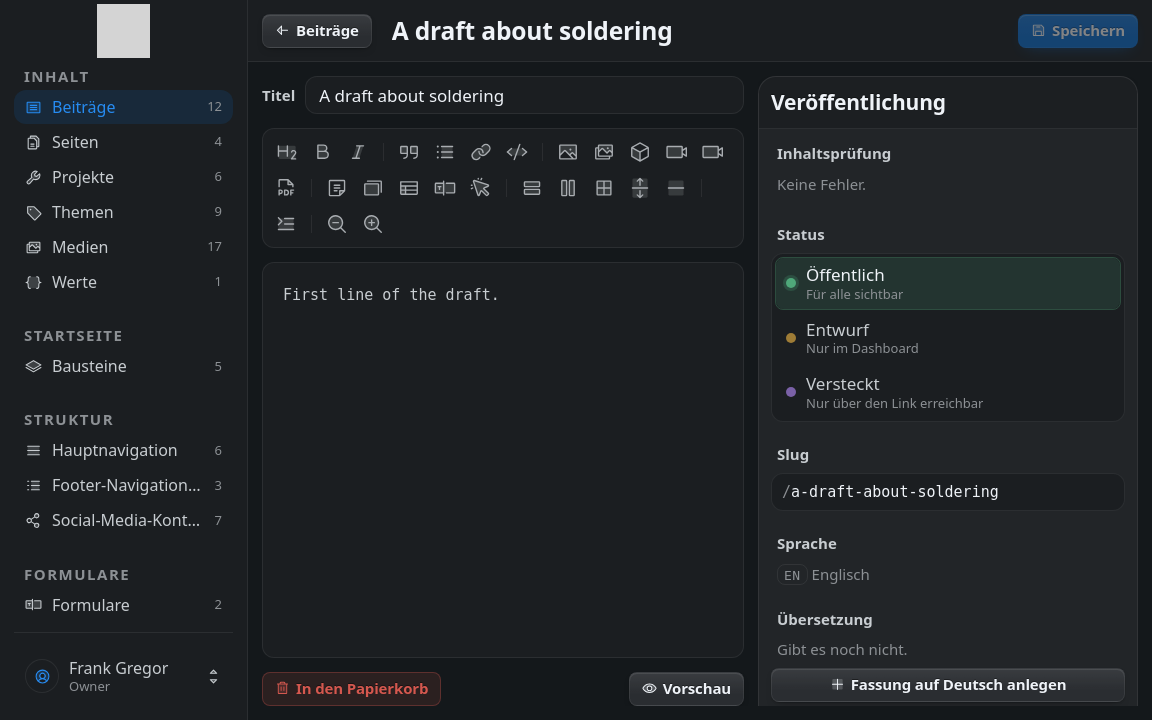
Test: dashboard shell › keeps a failed save in the bar, with its id, until it is closed
Replace the text in the field labelled "Titel" with "Will fail": [525, 95] box [305,76,744,114]
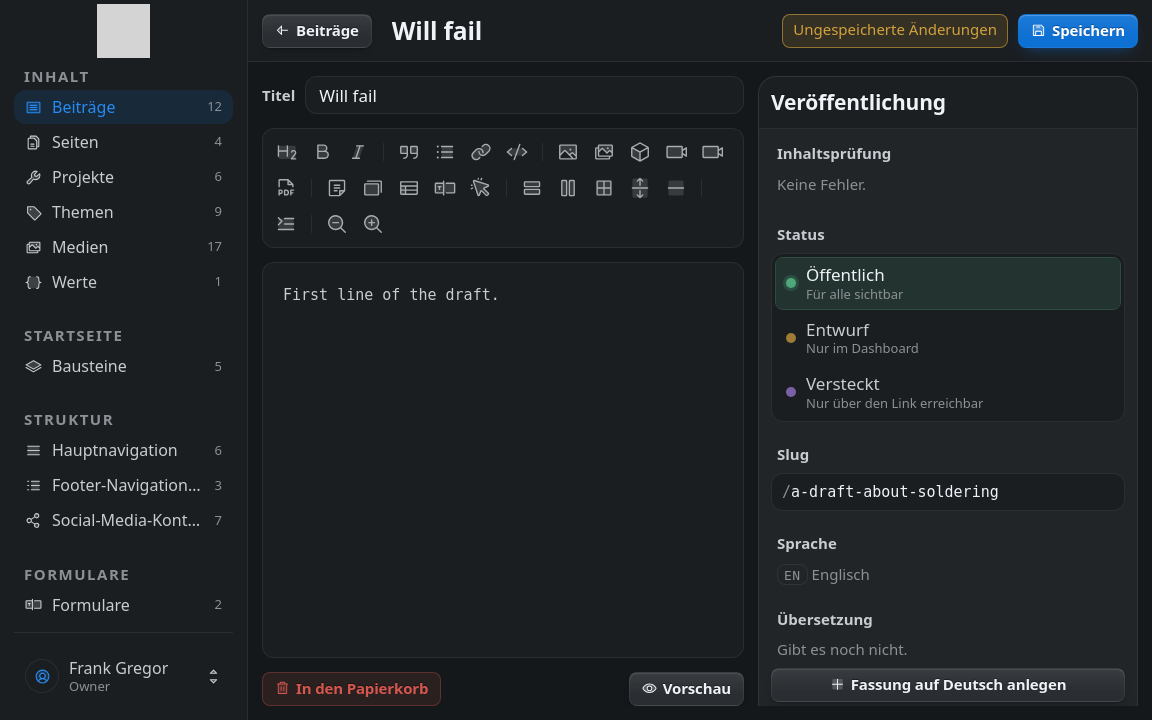
Click the button "Speichern": [1078, 31] box [1018,14,1138,48]
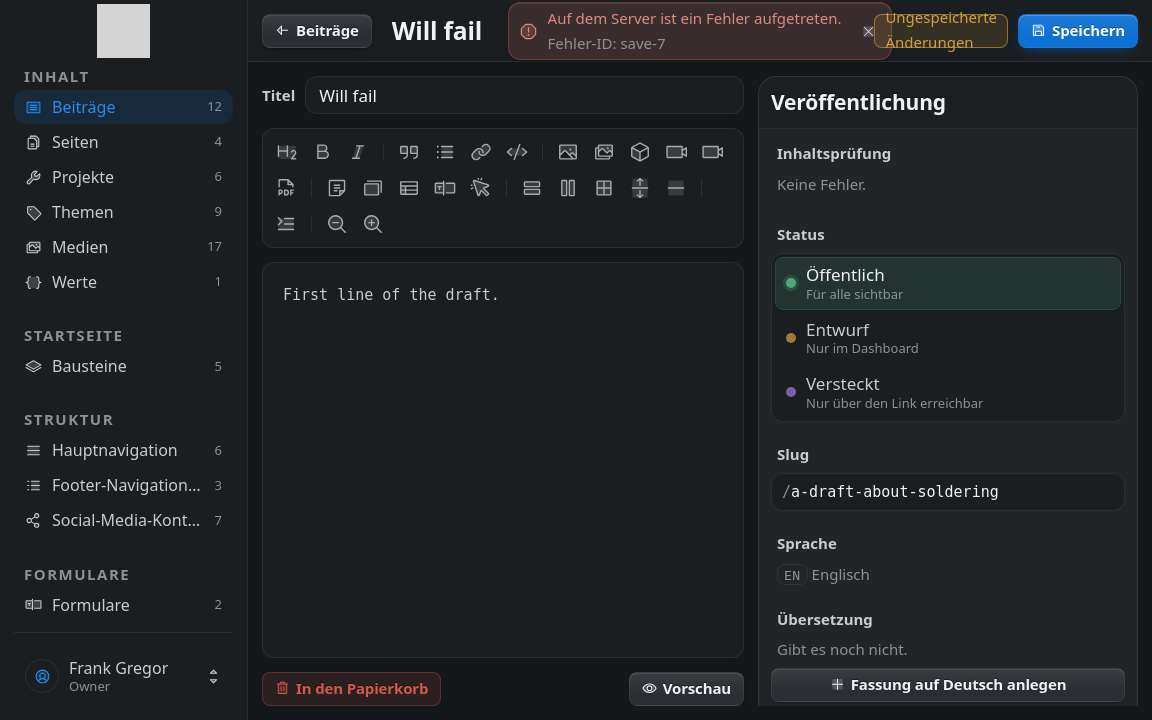
Now the text "Auf dem Server ist ein Fehler aufgetreten." is shown, box [548,6,842,31]
Now the text "Fehler-ID: save-7" is shown, box [548,33,666,53]
Click the button named "Schließen": [868, 31] box [851,14,885,48]
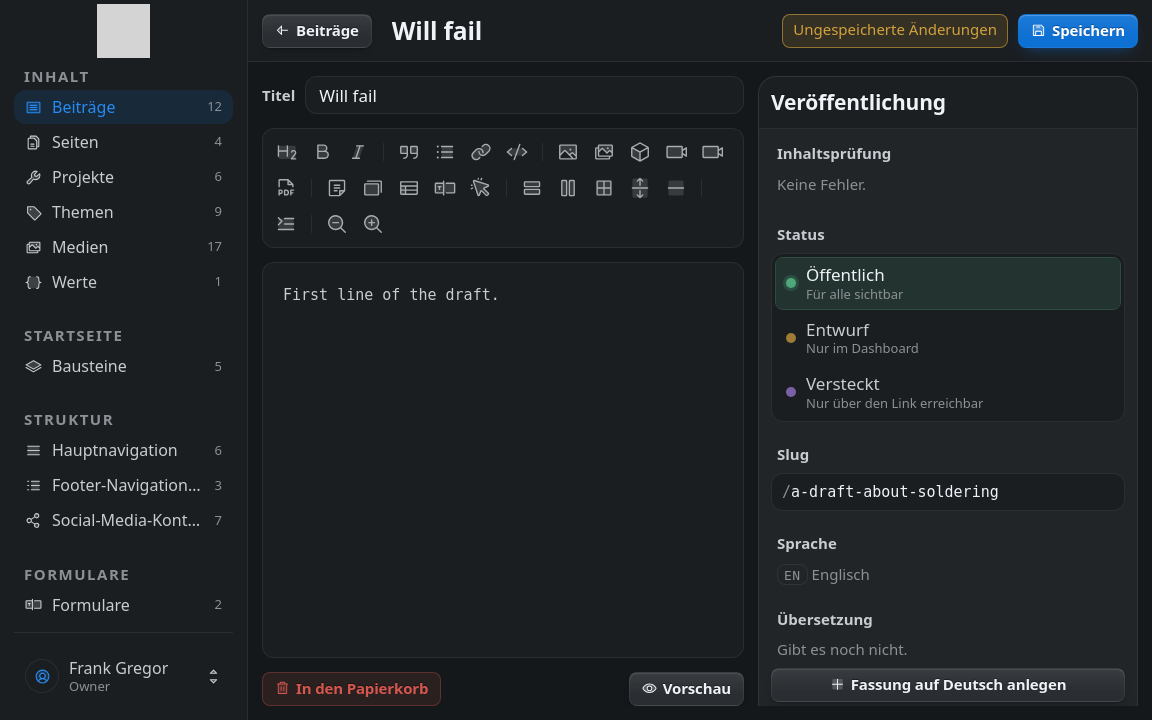
Now the element with class "notification" is gone
